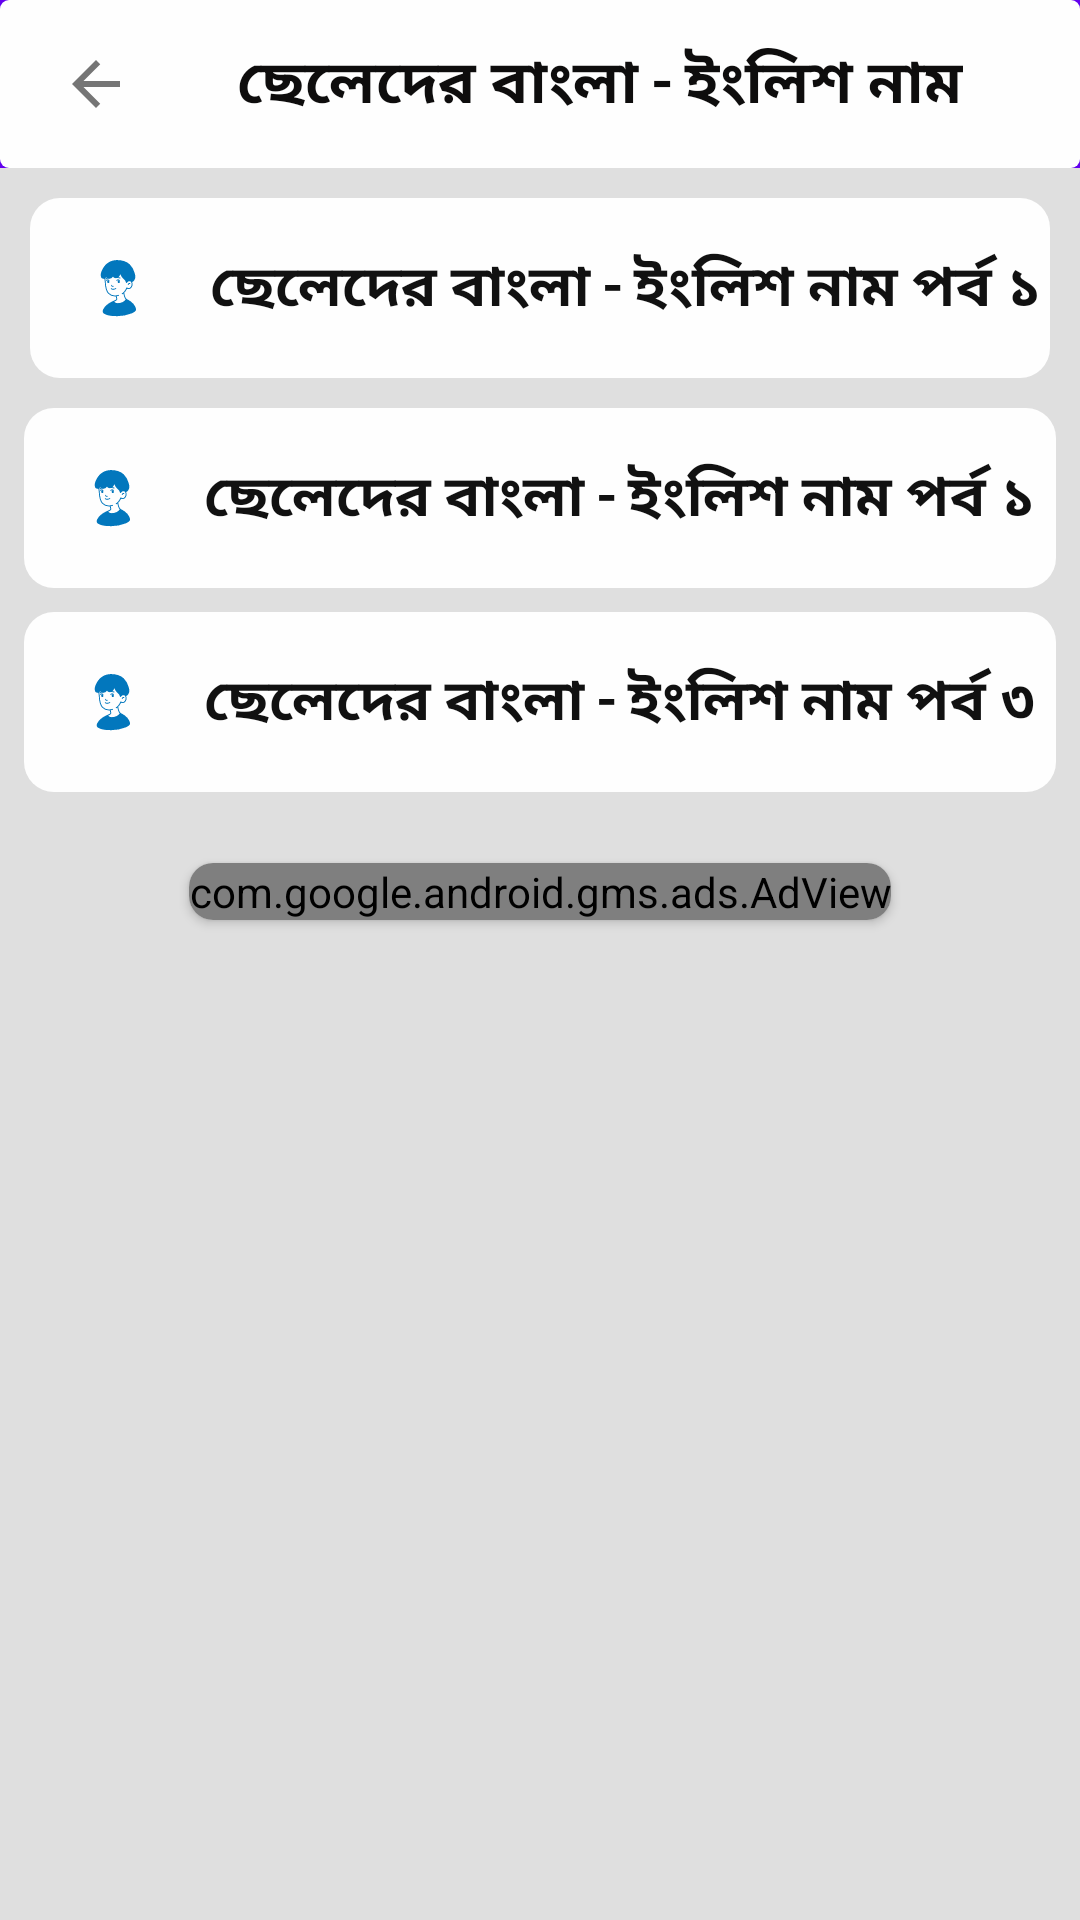

Named icons in this screenshot (1080*1920) and their bounding boxes, box(x1, y1, x2, y2):
back: box(72, 60, 120, 108)
boy: box(100, 260, 136, 317), box(94, 470, 130, 527), box(94, 674, 130, 731)
